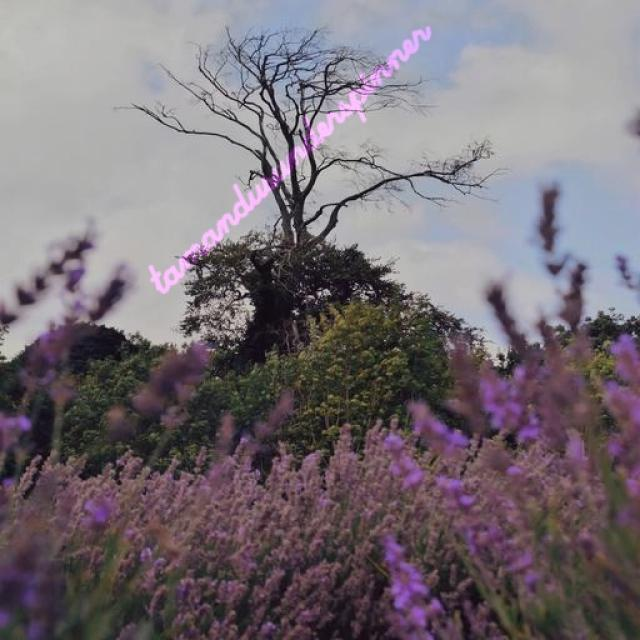watermark: (153, 1, 432, 300)
